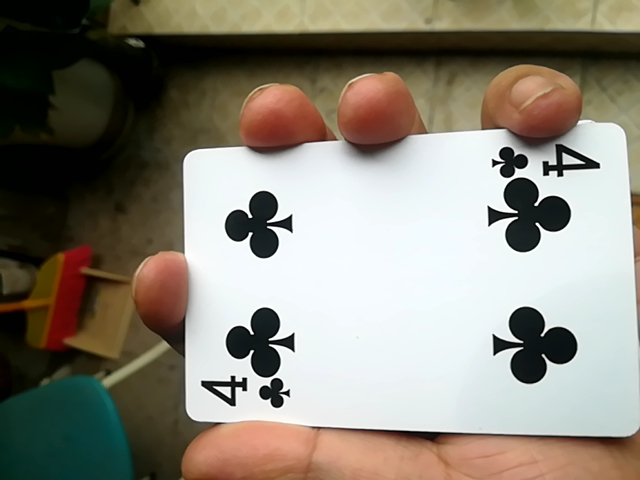mh 4: (162, 126, 635, 445)
